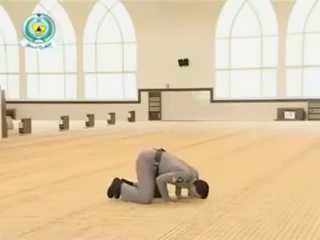sujud: (107, 148, 210, 205)
